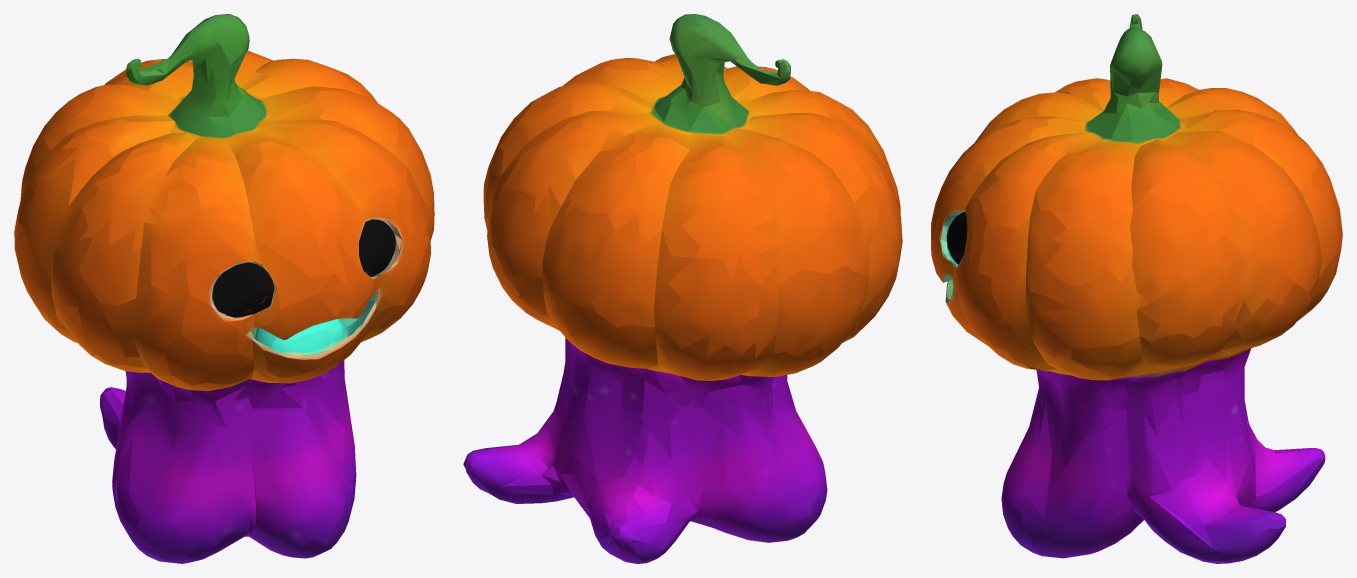
File: hw-slime.glb
3 renders of one model, left to right at view 1: azimuth 30°, elevation 25°; view 2: azimuth 150°, elevation 25°; view 3: azimuth 270°, elevation 25°, orthographic. The views are drawn at different scales.
Bounding box in the file's own units: 1.4 × 1.9 × 1.42.
Materials: 1 (1 with a texture image).
